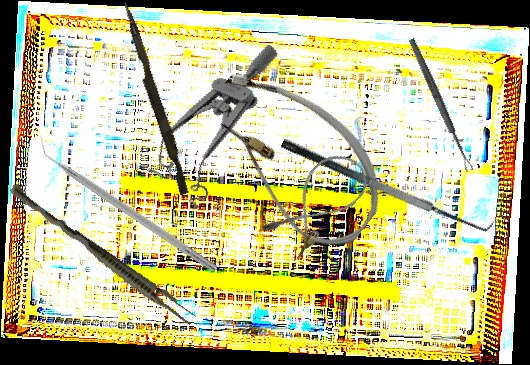Cannula: (179, 51, 407, 264), (258, 142, 377, 264)
Chopper: (29, 132, 226, 274)
Pusher: (115, 0, 194, 196)
Spatula Surgical: (280, 120, 497, 244)
Speculum: (139, 20, 281, 217)
Surgical Spoon: (407, 37, 474, 173)
Tissue Forceps: (4, 182, 200, 328)
